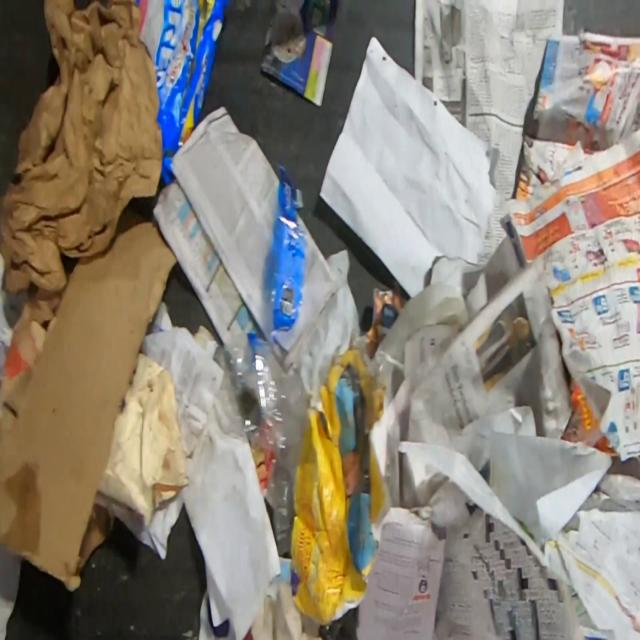cardboard: (0, 196, 180, 591), (274, 349, 391, 624), (75, 352, 195, 572), (0, 281, 67, 463)
rigid_plastic: (214, 162, 306, 558)
soft_plastic: (133, 0, 227, 185)
